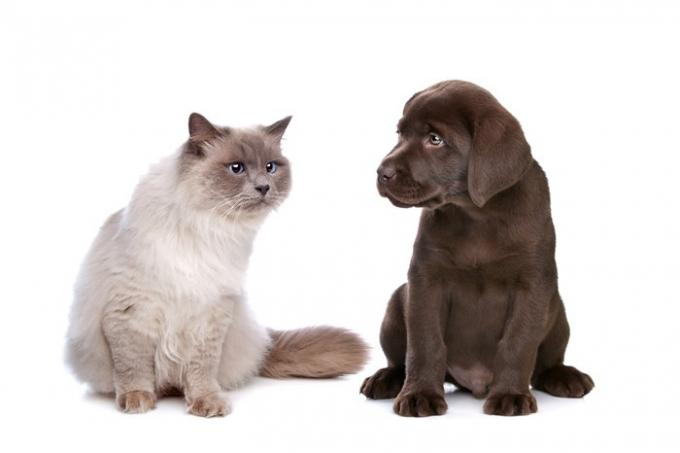cats: (46, 99, 370, 429)
dogs: (345, 68, 603, 421)
